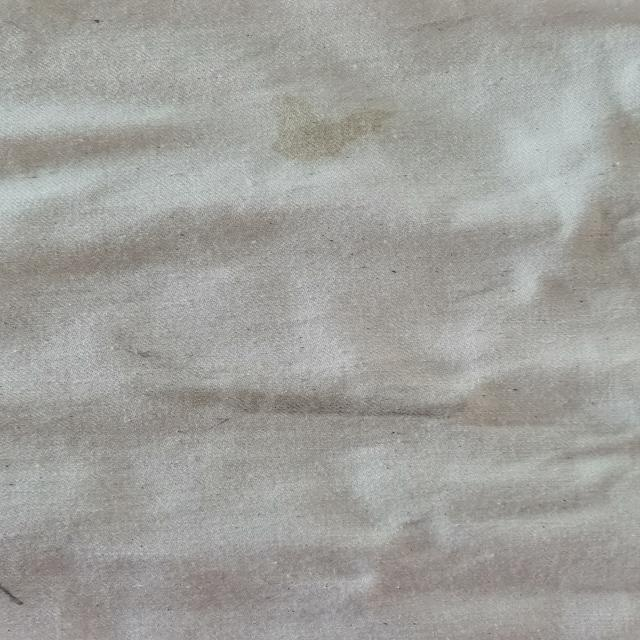taaaches: (96, 380, 520, 430), (240, 86, 423, 175), (78, 322, 198, 368), (4, 572, 44, 614)
